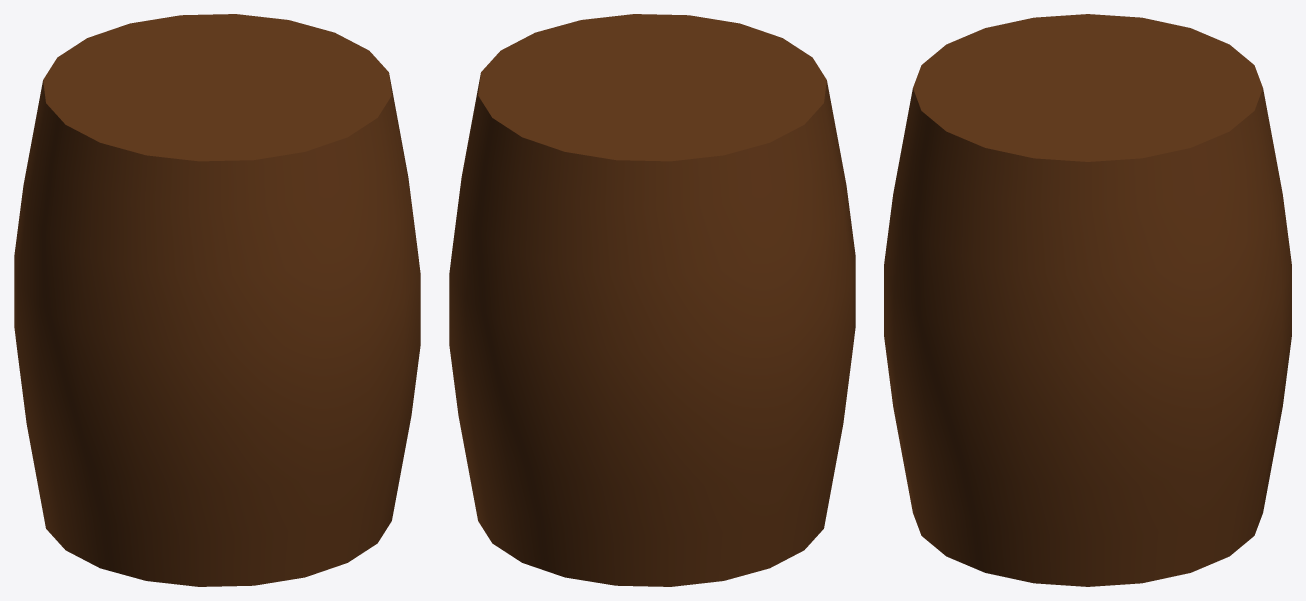
The model's file is FairyTale257.gltf.
3 renders of one model, left to right at view 1: azimuth 30°, elevation 25°; view 2: azimuth 150°, elevation 25°; view 3: azimuth 270°, elevation 25°, orthographic.
Parts seen in each view (by area): view 1: 网格265; view 2: 网格265; view 3: 网格265.
Boxes of the visible parts, x1,y1,x2,y2 form: 网格265: [14, 14, 420, 586]; 网格265: [449, 14, 855, 586]; 网格265: [884, 14, 1291, 586].
Size of the model in its own units: 0.7417 by 0.8526 by 0.7417.
